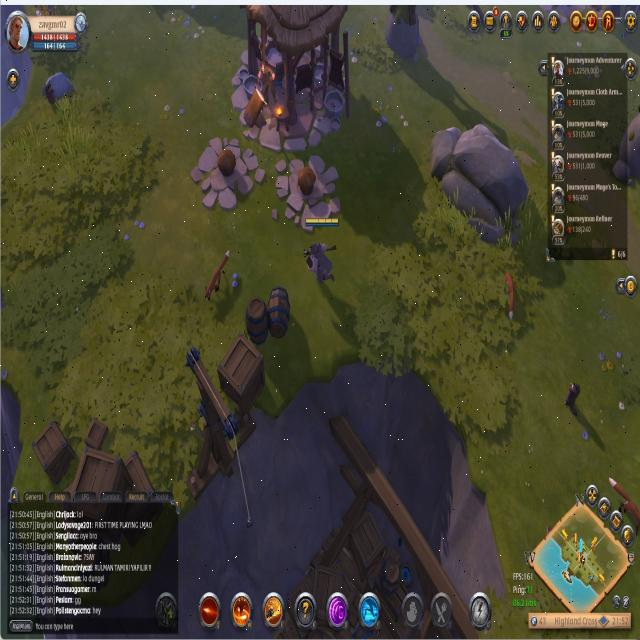stone: (39, 68, 75, 108)
